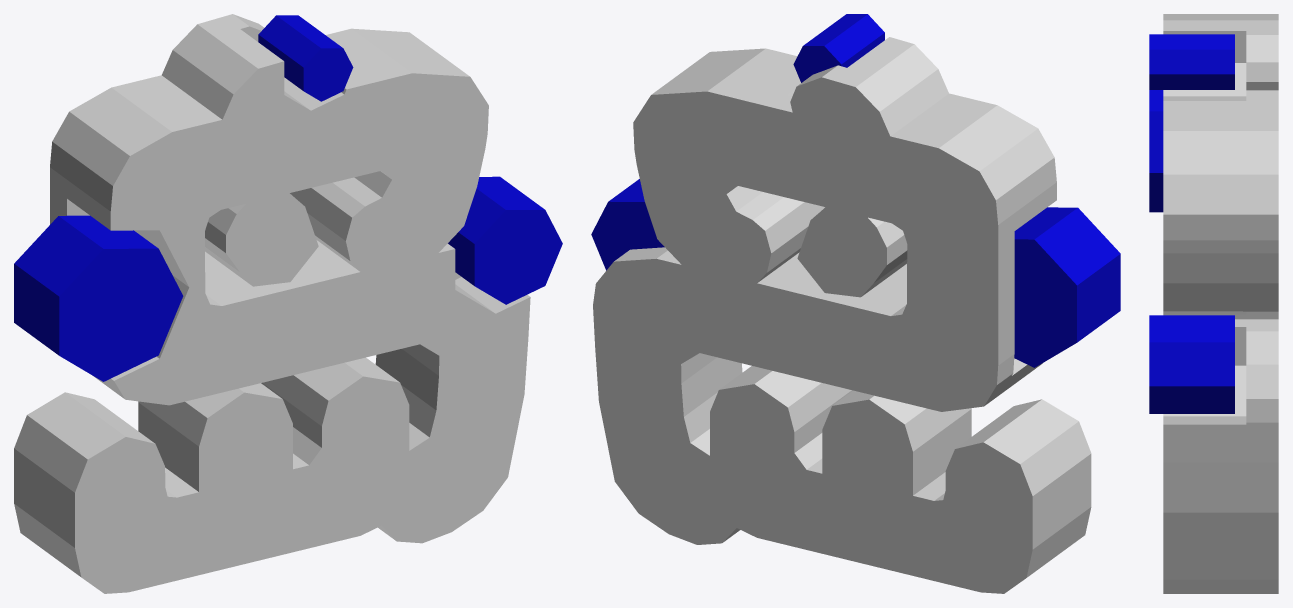
Rendered from Ch_Lite_China_岛_01.fbx.
3 views of the same model, side by side, from view 1: azimuth 30°, elevation 25°; view 2: azimuth 150°, elevation 25°; view 3: azimuth 270°, elevation 25° (orthographic). The views are drawn at different scales.
Visible parts, largest first — view 1: sphere1; view 2: sphere1; view 3: sphere1.
Boxes of the visible parts, box(x1,y1,x2,y2) form: sphere1: box(14, 14, 562, 593); sphere1: box(591, 14, 1120, 593); sphere1: box(1149, 14, 1278, 593).
Bounding box in the file's own units: 0.955 × 0.9546 × 0.2242.
